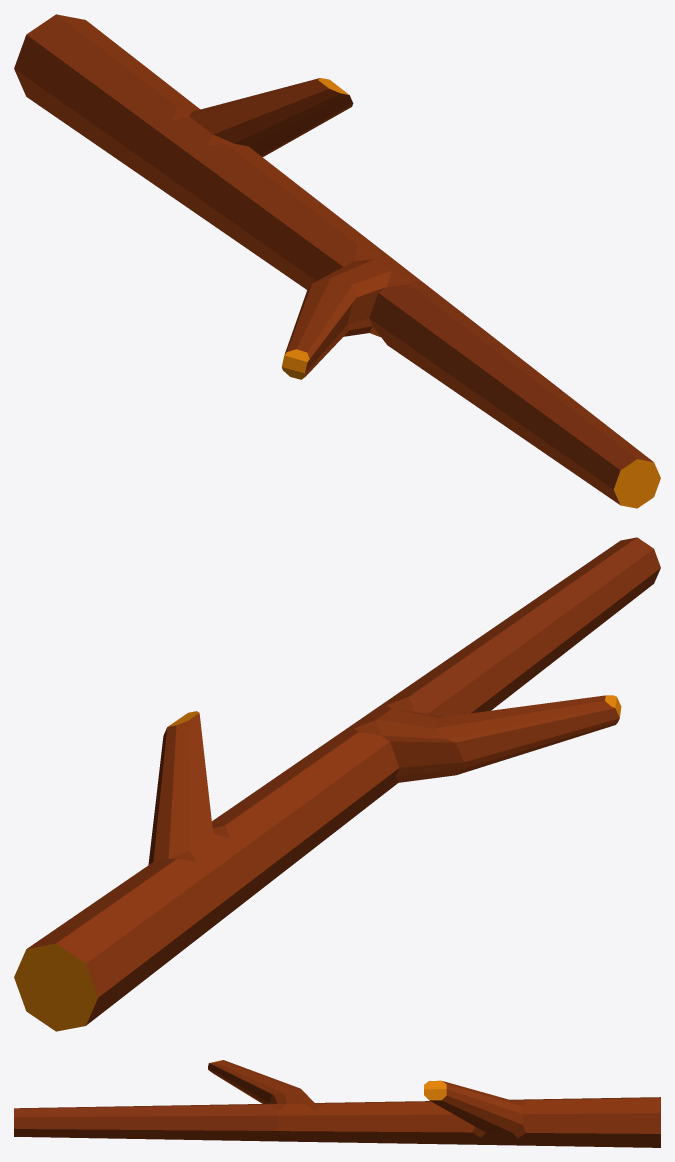
The model's file is Stick_3.fbx.
The picture shows the model from 3 angles, top to bottom: view 1: azimuth 30°, elevation 25°; view 2: azimuth 150°, elevation 25°; view 3: azimuth 270°, elevation 25°; orthographic projection. The views are drawn at different scales.
Parts seen in each view (by area): view 1: Circle.026; view 2: Circle.026; view 3: Circle.026.
Part boxes in pixels (left/top/right/bottom): Circle.026: left=14, top=14, right=660, bottom=508; Circle.026: left=14, top=537, right=660, bottom=1031; Circle.026: left=14, top=1060, right=660, bottom=1147.
Size of the model in its own units: 10.4 by 5.83 by 40.73.
